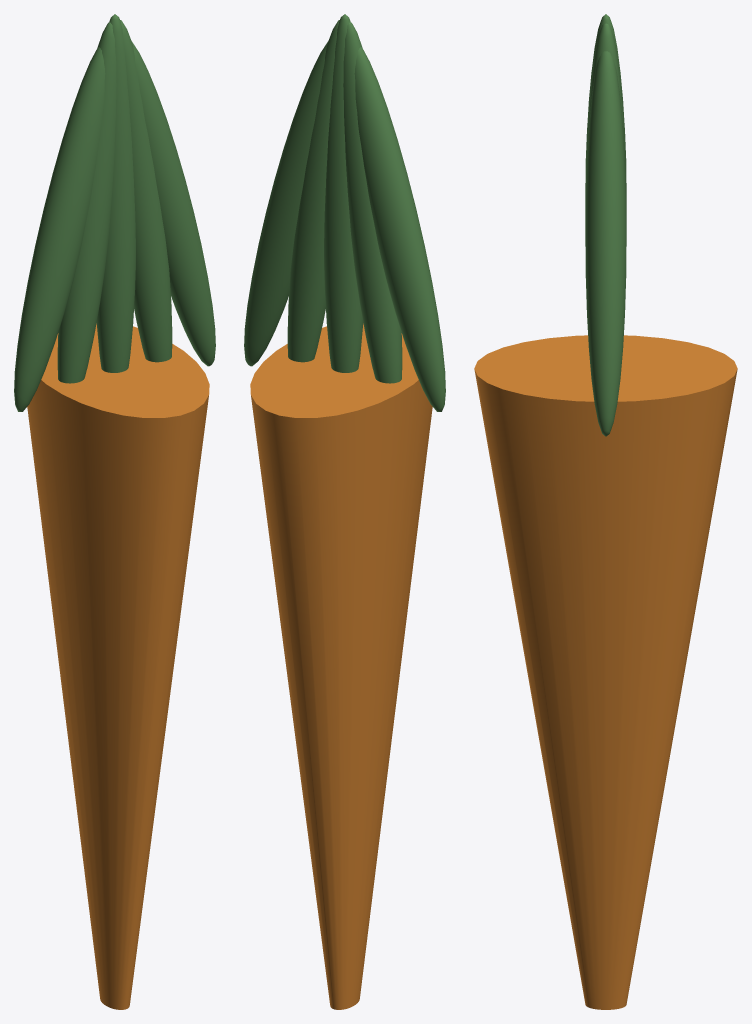
The model's file is wp-carotte.glb.
The picture shows the model from 3 angles, left to right: view 1: azimuth 30°, elevation 25°; view 2: azimuth 150°, elevation 25°; view 3: azimuth 270°, elevation 25°; orthographic projection.
Parts seen in each view (by area): view 1: wp-carotte; view 2: wp-carotte; view 3: wp-carotte.
Part boxes in pixels (<box>): wp-carotte: <box>14,14,215,1009</box>; wp-carotte: <box>244,14,445,1009</box>; wp-carotte: <box>474,14,737,1009</box>.
Size of the model in its own units: 0.0527 by 0.249 by 0.06.
